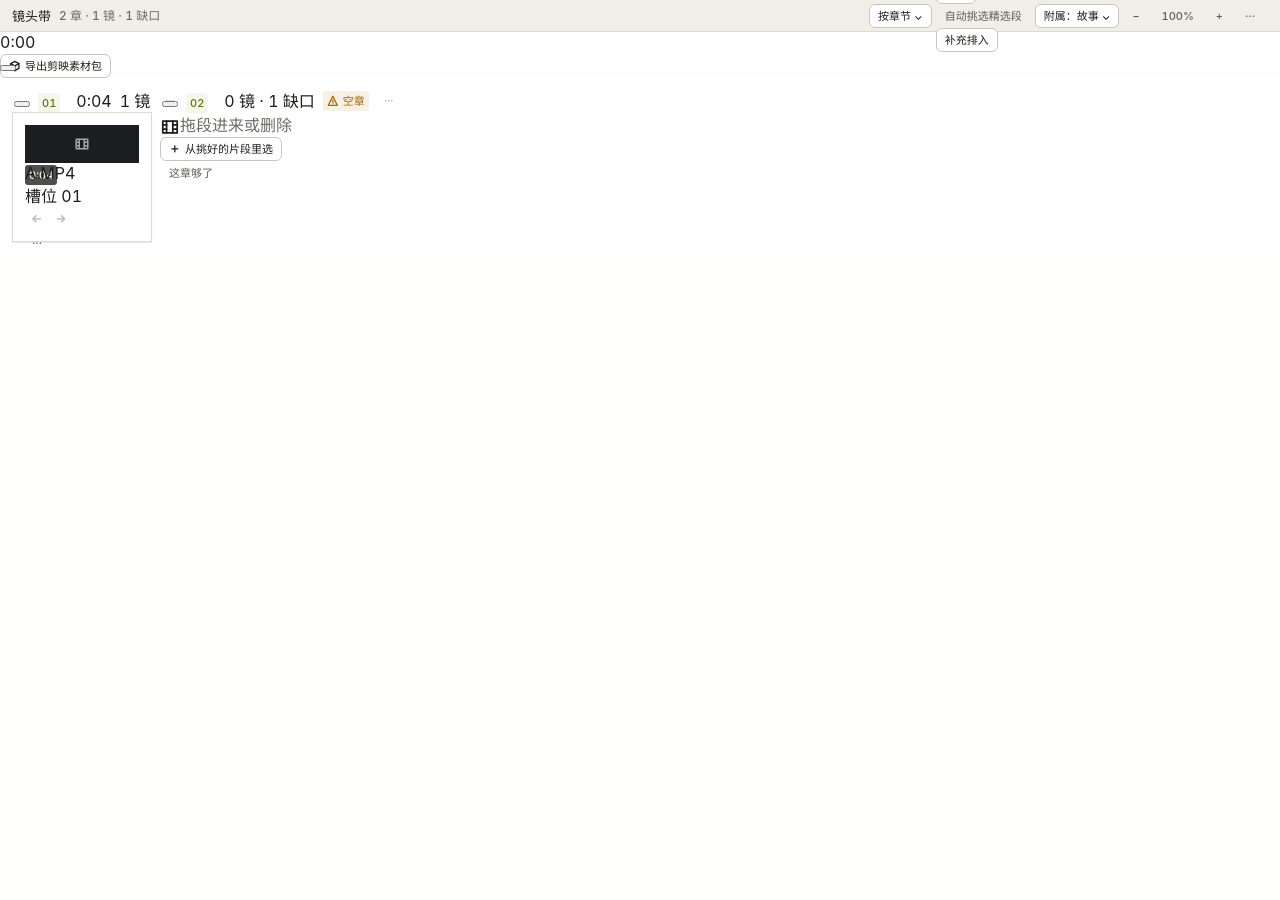
Test: U-18:「从挑好的片段里选」(R10 的「从媒体池选择…」)是不靠拖拽的第二条路 › 三星但没收藏的素材:先收藏整条(故事板只认收藏)再入带,提示写明「已自动收藏整条」
The image size is (1280, 900).
Expected: the cell named "镜头 1：A.MP4" is shown, [12,112,152,242]
Click the button "从挑好的片段里选" at (221, 149), box [160,137,282,161]
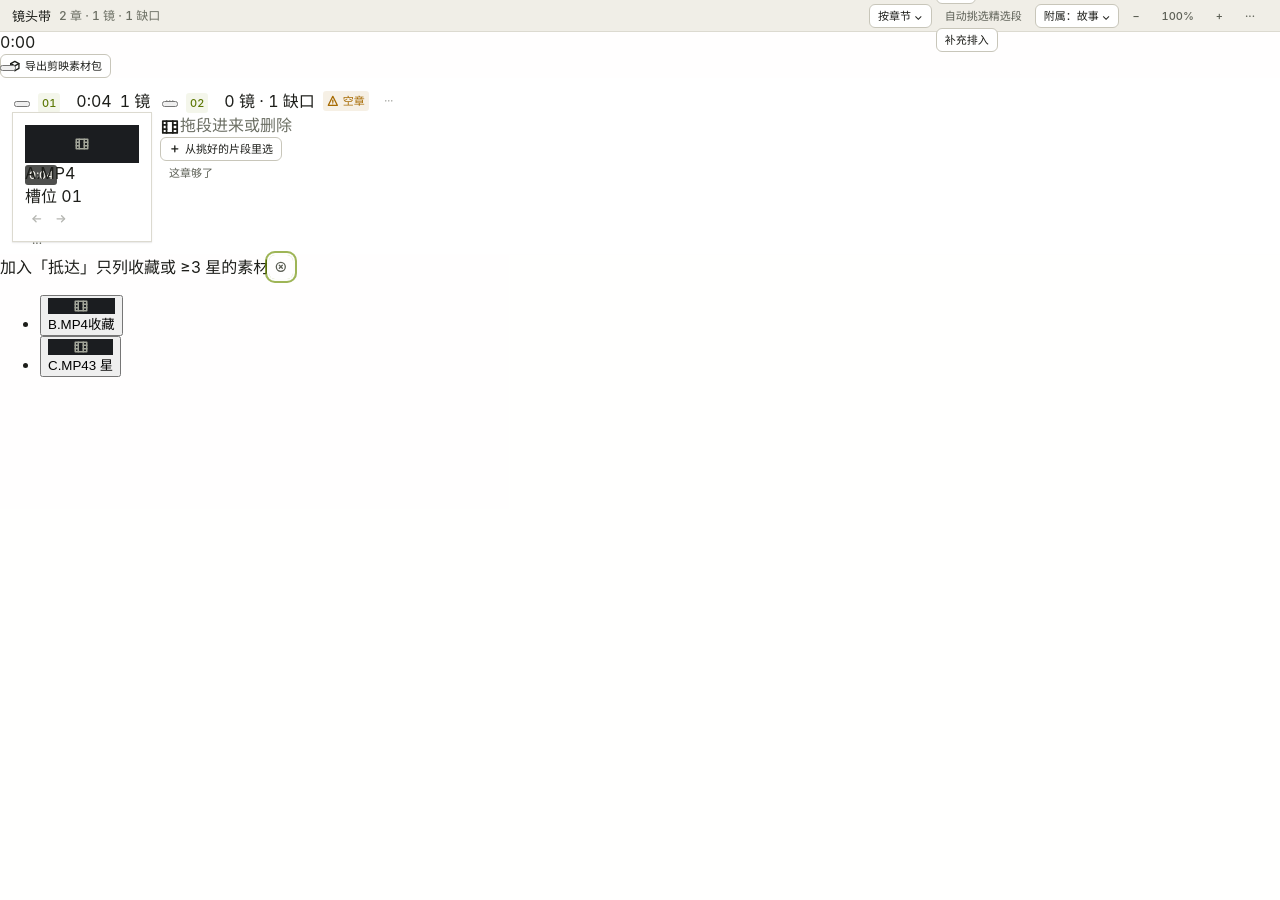
Click the button with aria-label "加入 C.MP4" at (81, 356), box [40,336,121,377]
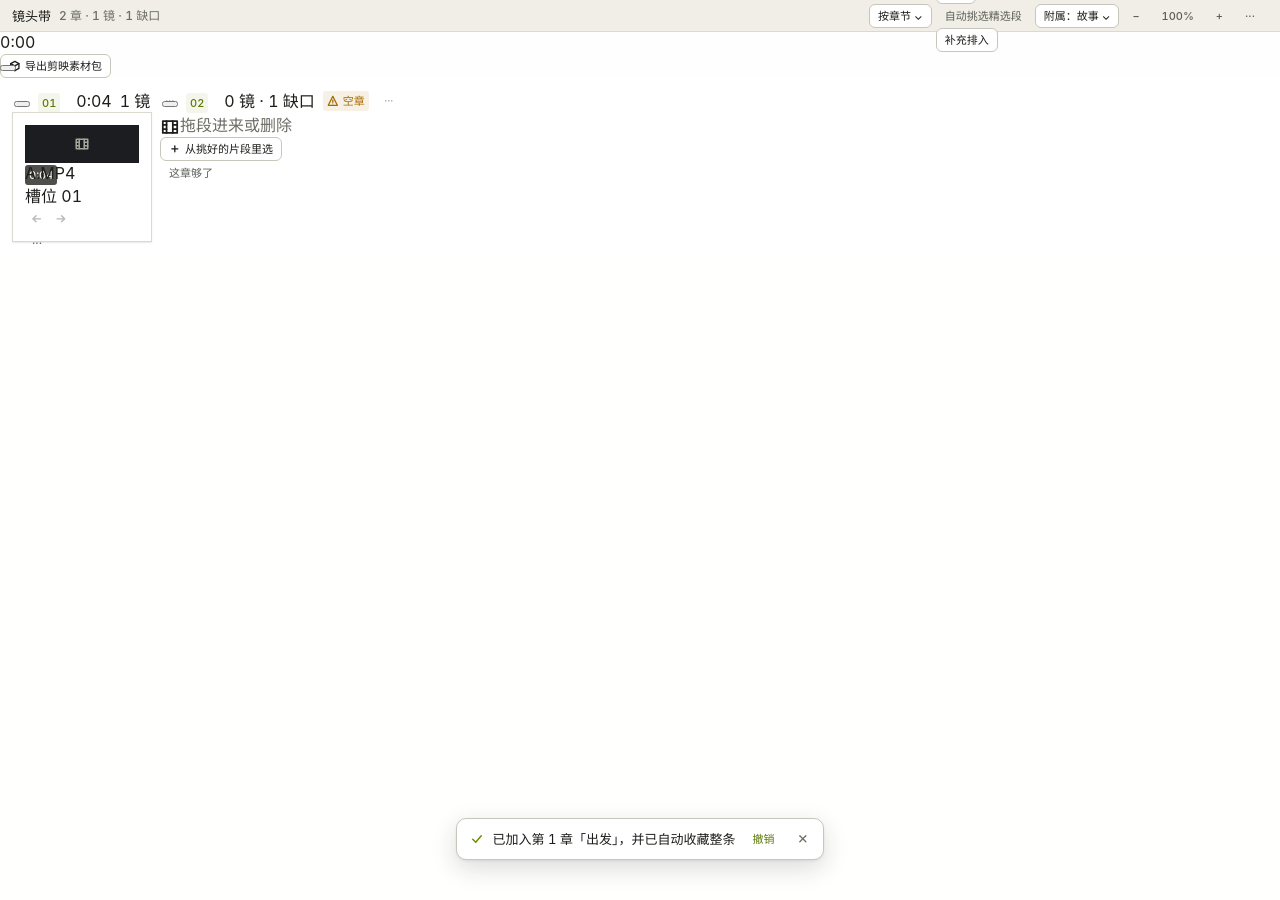
Result: the text "已加入第 1 章「出发」，并已自动收藏整条" is shown at [492,830,735,848]
